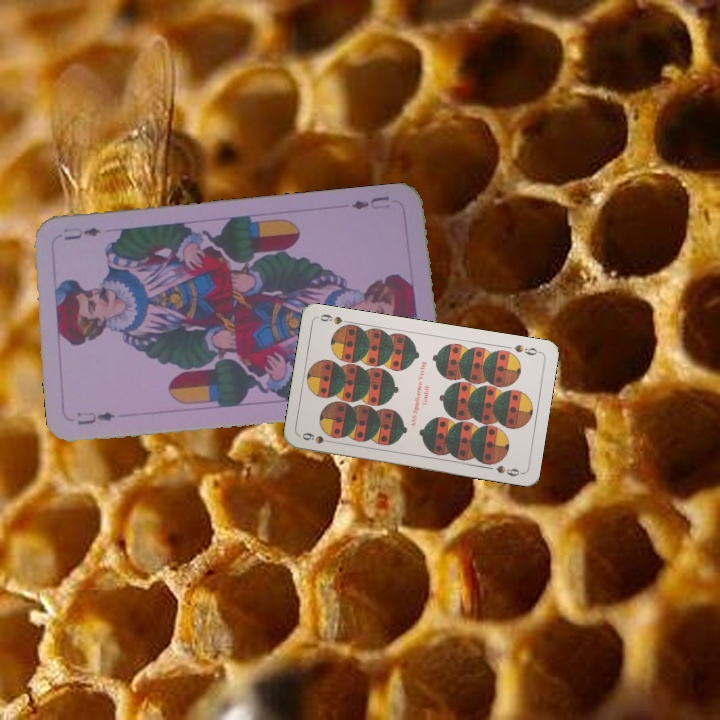EU: (72, 407, 118, 428), (348, 192, 392, 213)
S9: (298, 429, 338, 446), (510, 340, 543, 358)
